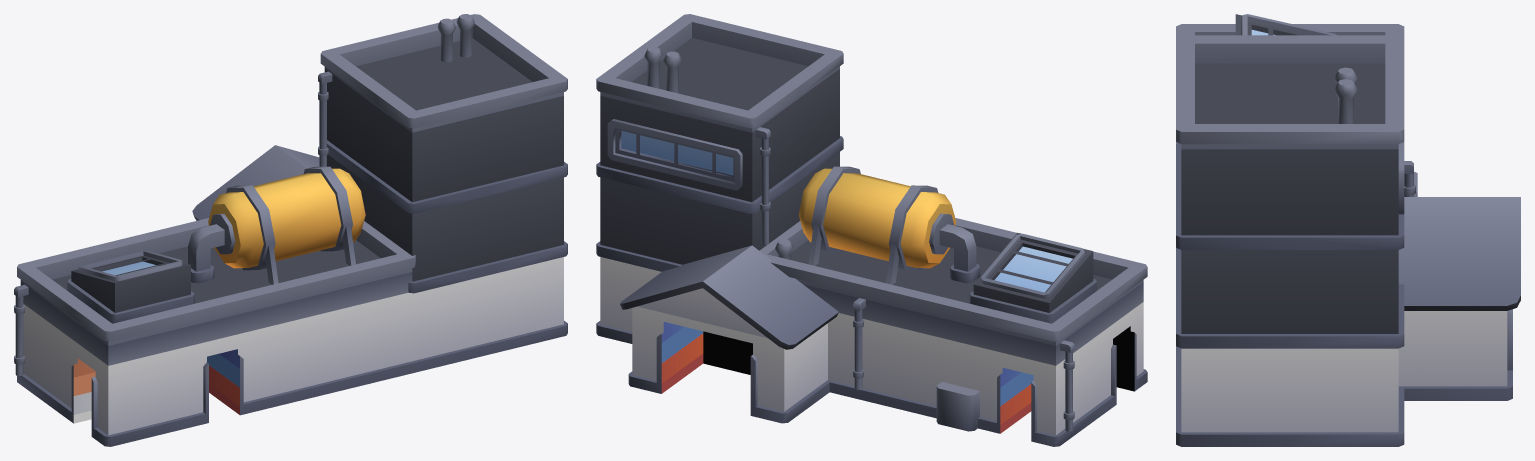
Rendered from building-r-enterable.glb.
3 renders of one model, left to right at view 1: azimuth 30°, elevation 25°; view 2: azimuth 150°, elevation 25°; view 3: azimuth 270°, elevation 25°, orthographic. The views are drawn at different scales.
Visible parts, largest first — view 1: building-r-enterable; view 2: building-r-enterable; view 3: building-r-enterable.
Part boxes in pixels (<box>): building-r-enterable: <box>14,14,567,446</box>; building-r-enterable: <box>596,14,1147,446</box>; building-r-enterable: <box>1176,14,1520,446</box>.
Bounding box in the file's own units: 2.48 × 1.39 × 1.27.
1 material, 1 textured.
